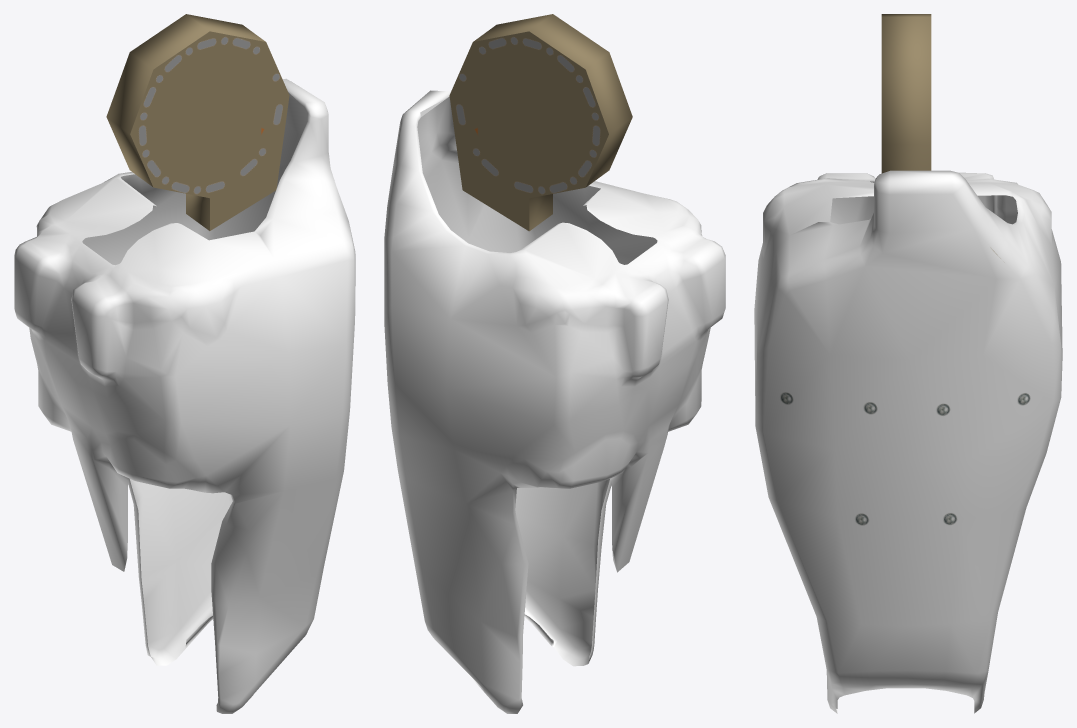
The model's file is lj4_right.dae.
3 renders of one model, left to right at view 1: azimuth 30°, elevation 25°; view 2: azimuth 150°, elevation 25°; view 3: azimuth 270°, elevation 25°, orthographic. The views are drawn at different scales.
Visible parts, largest first — view 1: Cylinder_001; view 2: Cylinder_001; view 3: Cylinder_001.
Part boxes in pixels (left/top/right/bottom): Cylinder_001: left=14, top=14, right=355, bottom=713; Cylinder_001: left=384, top=14, right=725, bottom=713; Cylinder_001: left=754, top=14, right=1062, bottom=713.
Size of the model in its own units: 0.1865 by 0.1791 by 0.4459.
1 material, 1 textured.
